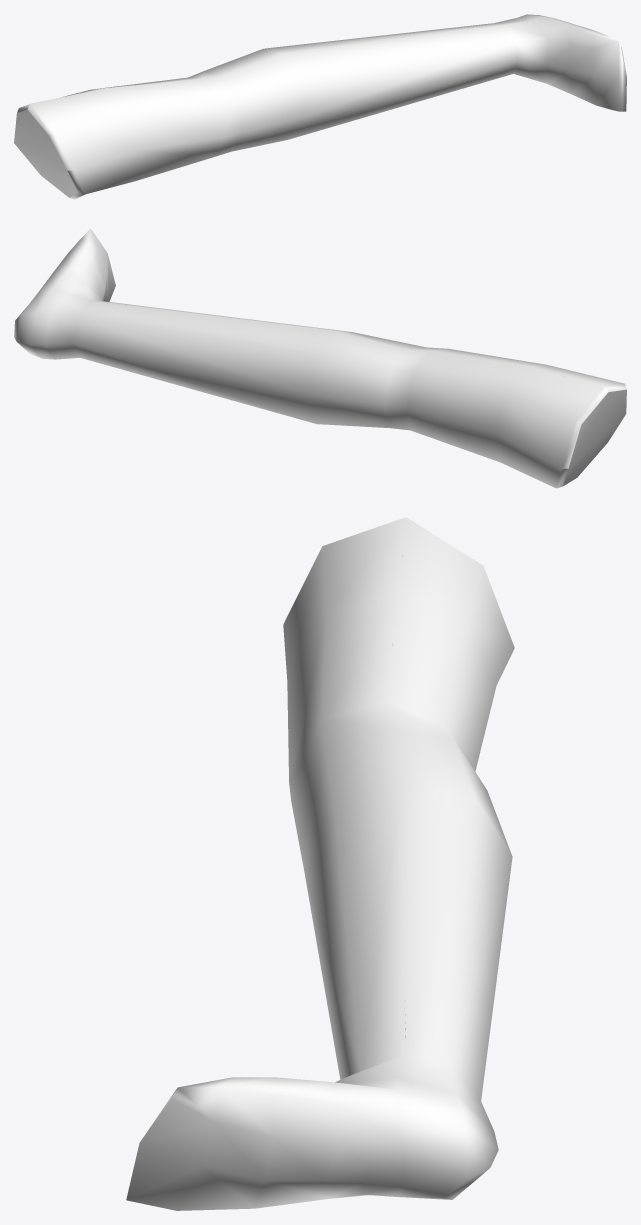
File: maniqui_leg.fbx
3 views of the same model, one above another, from view 1: azimuth 30°, elevation 25°; view 2: azimuth 150°, elevation 25°; view 3: azimuth 270°, elevation 25° (orthographic). The views are drawn at different scales.
Visible parts, largest first — view 1: polySurface3; view 2: polySurface3; view 3: polySurface3.
Boxes of the visible parts, x1,y1,x2,y2 form: polySurface3: [14, 14, 626, 199]; polySurface3: [14, 228, 626, 488]; polySurface3: [126, 517, 514, 1210].
Size of the model in its own units: 86.46 by 15.34 by 27.03.
